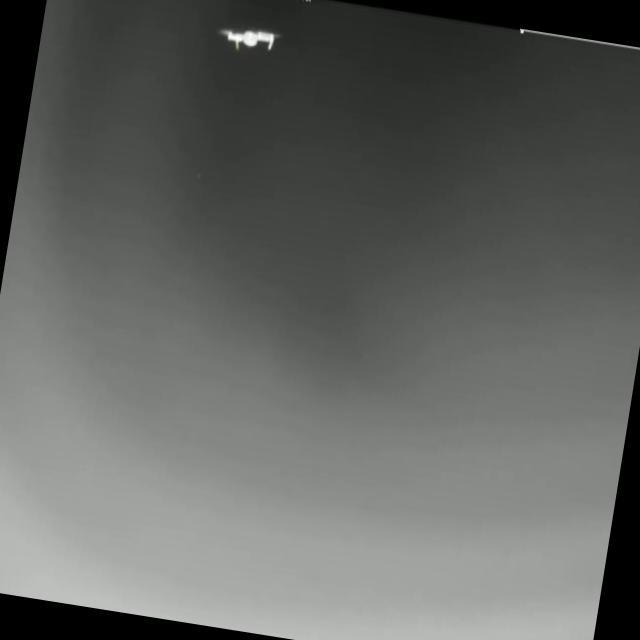DRONE: (214, 24, 283, 53)
